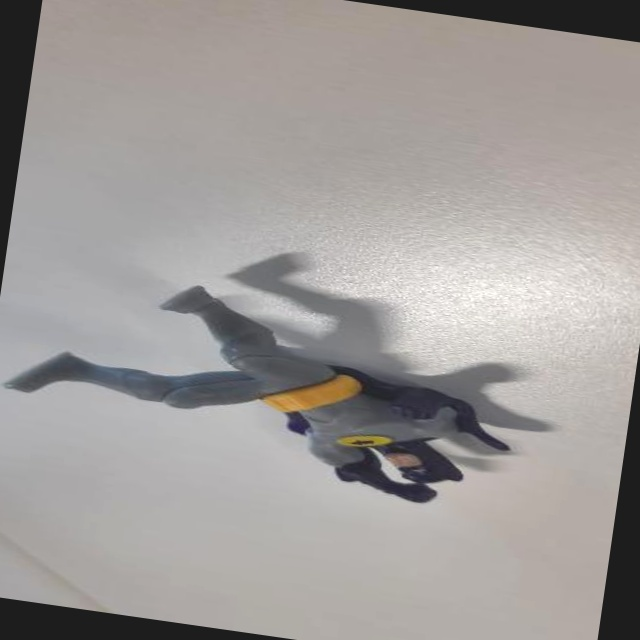Batman: (0, 264, 524, 513)
